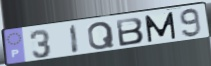3: (29, 28, 52, 60)
9: (180, 6, 204, 39)
B: (115, 16, 146, 47)
I: (69, 24, 81, 55)
M: (143, 11, 178, 44)
Q: (87, 20, 116, 51)
